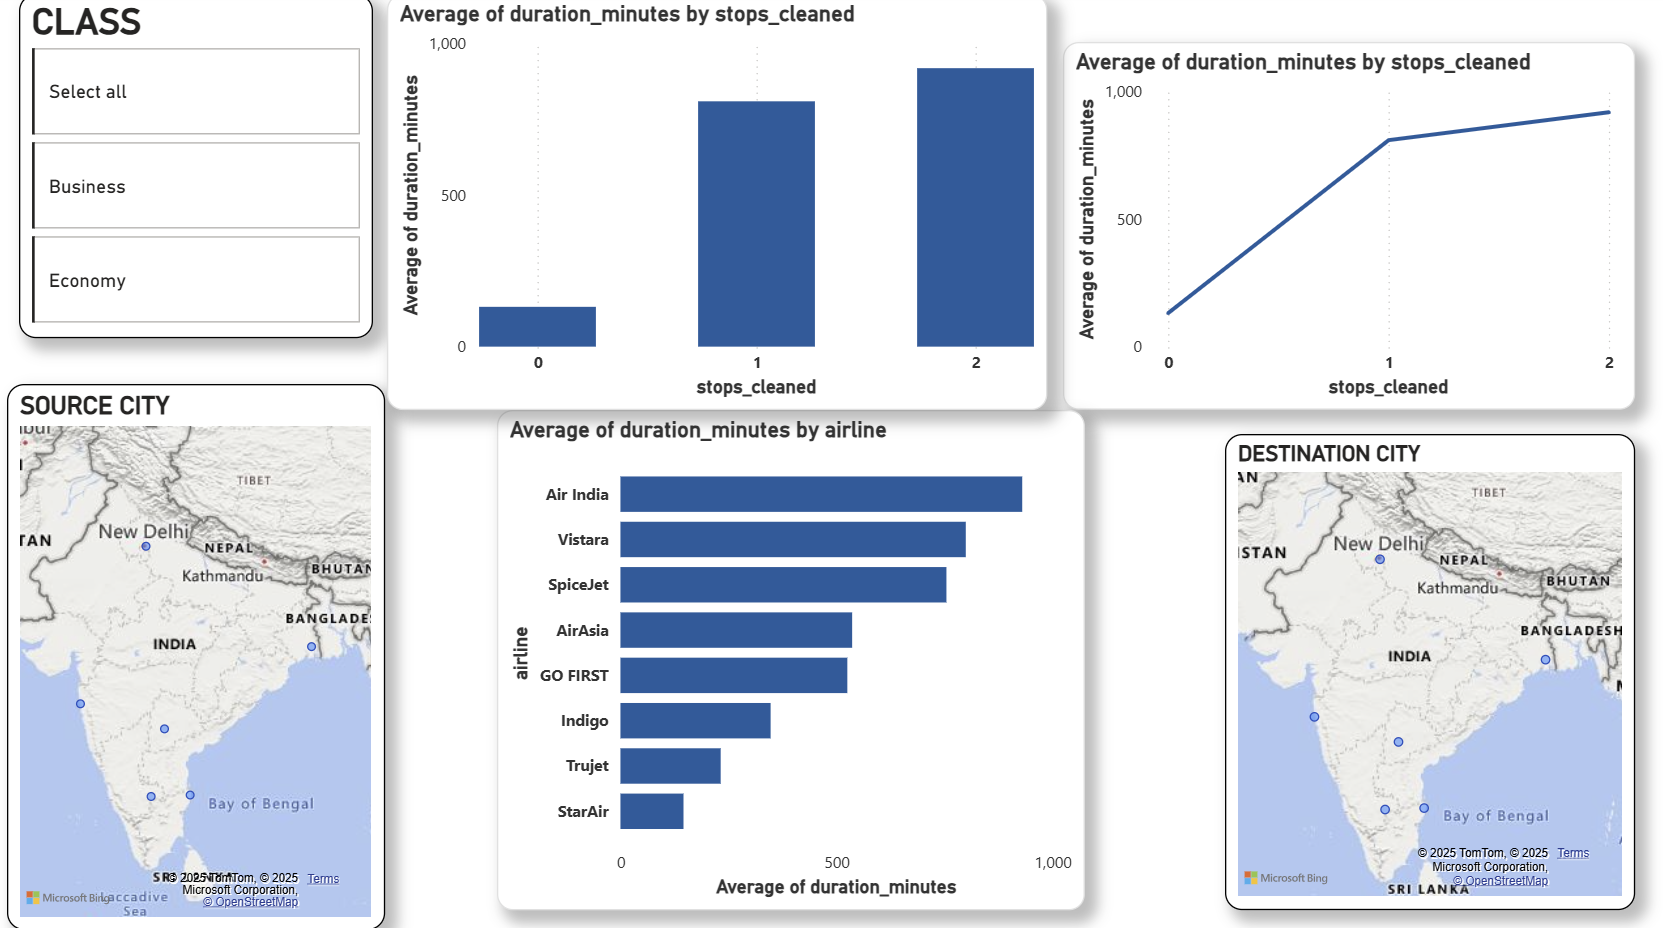

This screenshot's page, from the dashboard's own definition file:
{"tool":"powerbi","page":{"name":"Page 5","canvas":[1280,720],"ordinal":1},"visuals":[{"type":"advancedSlicerVisual","title":"CLASS","fields":{"Values":["project combined_flights.class"]},"box":[18.4,3.1,271,263.3],"z":0},{"type":"lineChart","fields":{"Y":["Avg(project combined_flights.duration_minutes)"],"Category":["project combined_flights.stops_cleaned"]},"box":[817.6,3.1,437.9,320],"z":1000},{"type":"barChart","fields":{"Category":["project combined_flights.airline"],"Y":["Avg(project combined_flights.duration_minutes)"]},"box":[384.3,321.5,450.1,382.8],"z":2000},{"type":"map","title":"SOURCE CITY","fields":{"Category":["project combined_flights.source_city"]},"box":[9.2,301.6,289.4,418],"z":3000},{"type":"map","title":"DESTINATION CITY","fields":{"Category":["project combined_flights.destination_city"]},"box":[941.6,339.9,313.9,364.4],"z":4000},{"type":"clusteredColumnChart","fields":{"Category":["project combined_flights.stops_cleaned"],"Y":["Avg(project combined_flights.duration_minutes)"]},"box":[300.1,3.1,505.3,318.5],"z":5000}]}

Visuals, with their boxes in screenshot pixels (x1, y1, x2, y2), scaled from the page's 1280x720 canvas onto the 1663x928 screenshot:
"CLASS" advancedSlicerVisual: box=[24, 4, 376, 343]
lineChart - Avg(project combined_flights.duration_minutes) x project combined_flights.stops_cleaned: box=[1062, 4, 1631, 416]
barChart - project combined_flights.airline x Avg(project combined_flights.duration_minutes): box=[499, 414, 1084, 908]
"SOURCE CITY" map: box=[12, 389, 388, 927]
"DESTINATION CITY" map: box=[1223, 438, 1631, 908]
clusteredColumnChart - project combined_flights.stops_cleaned x Avg(project combined_flights.duration_minutes): box=[390, 4, 1046, 415]
